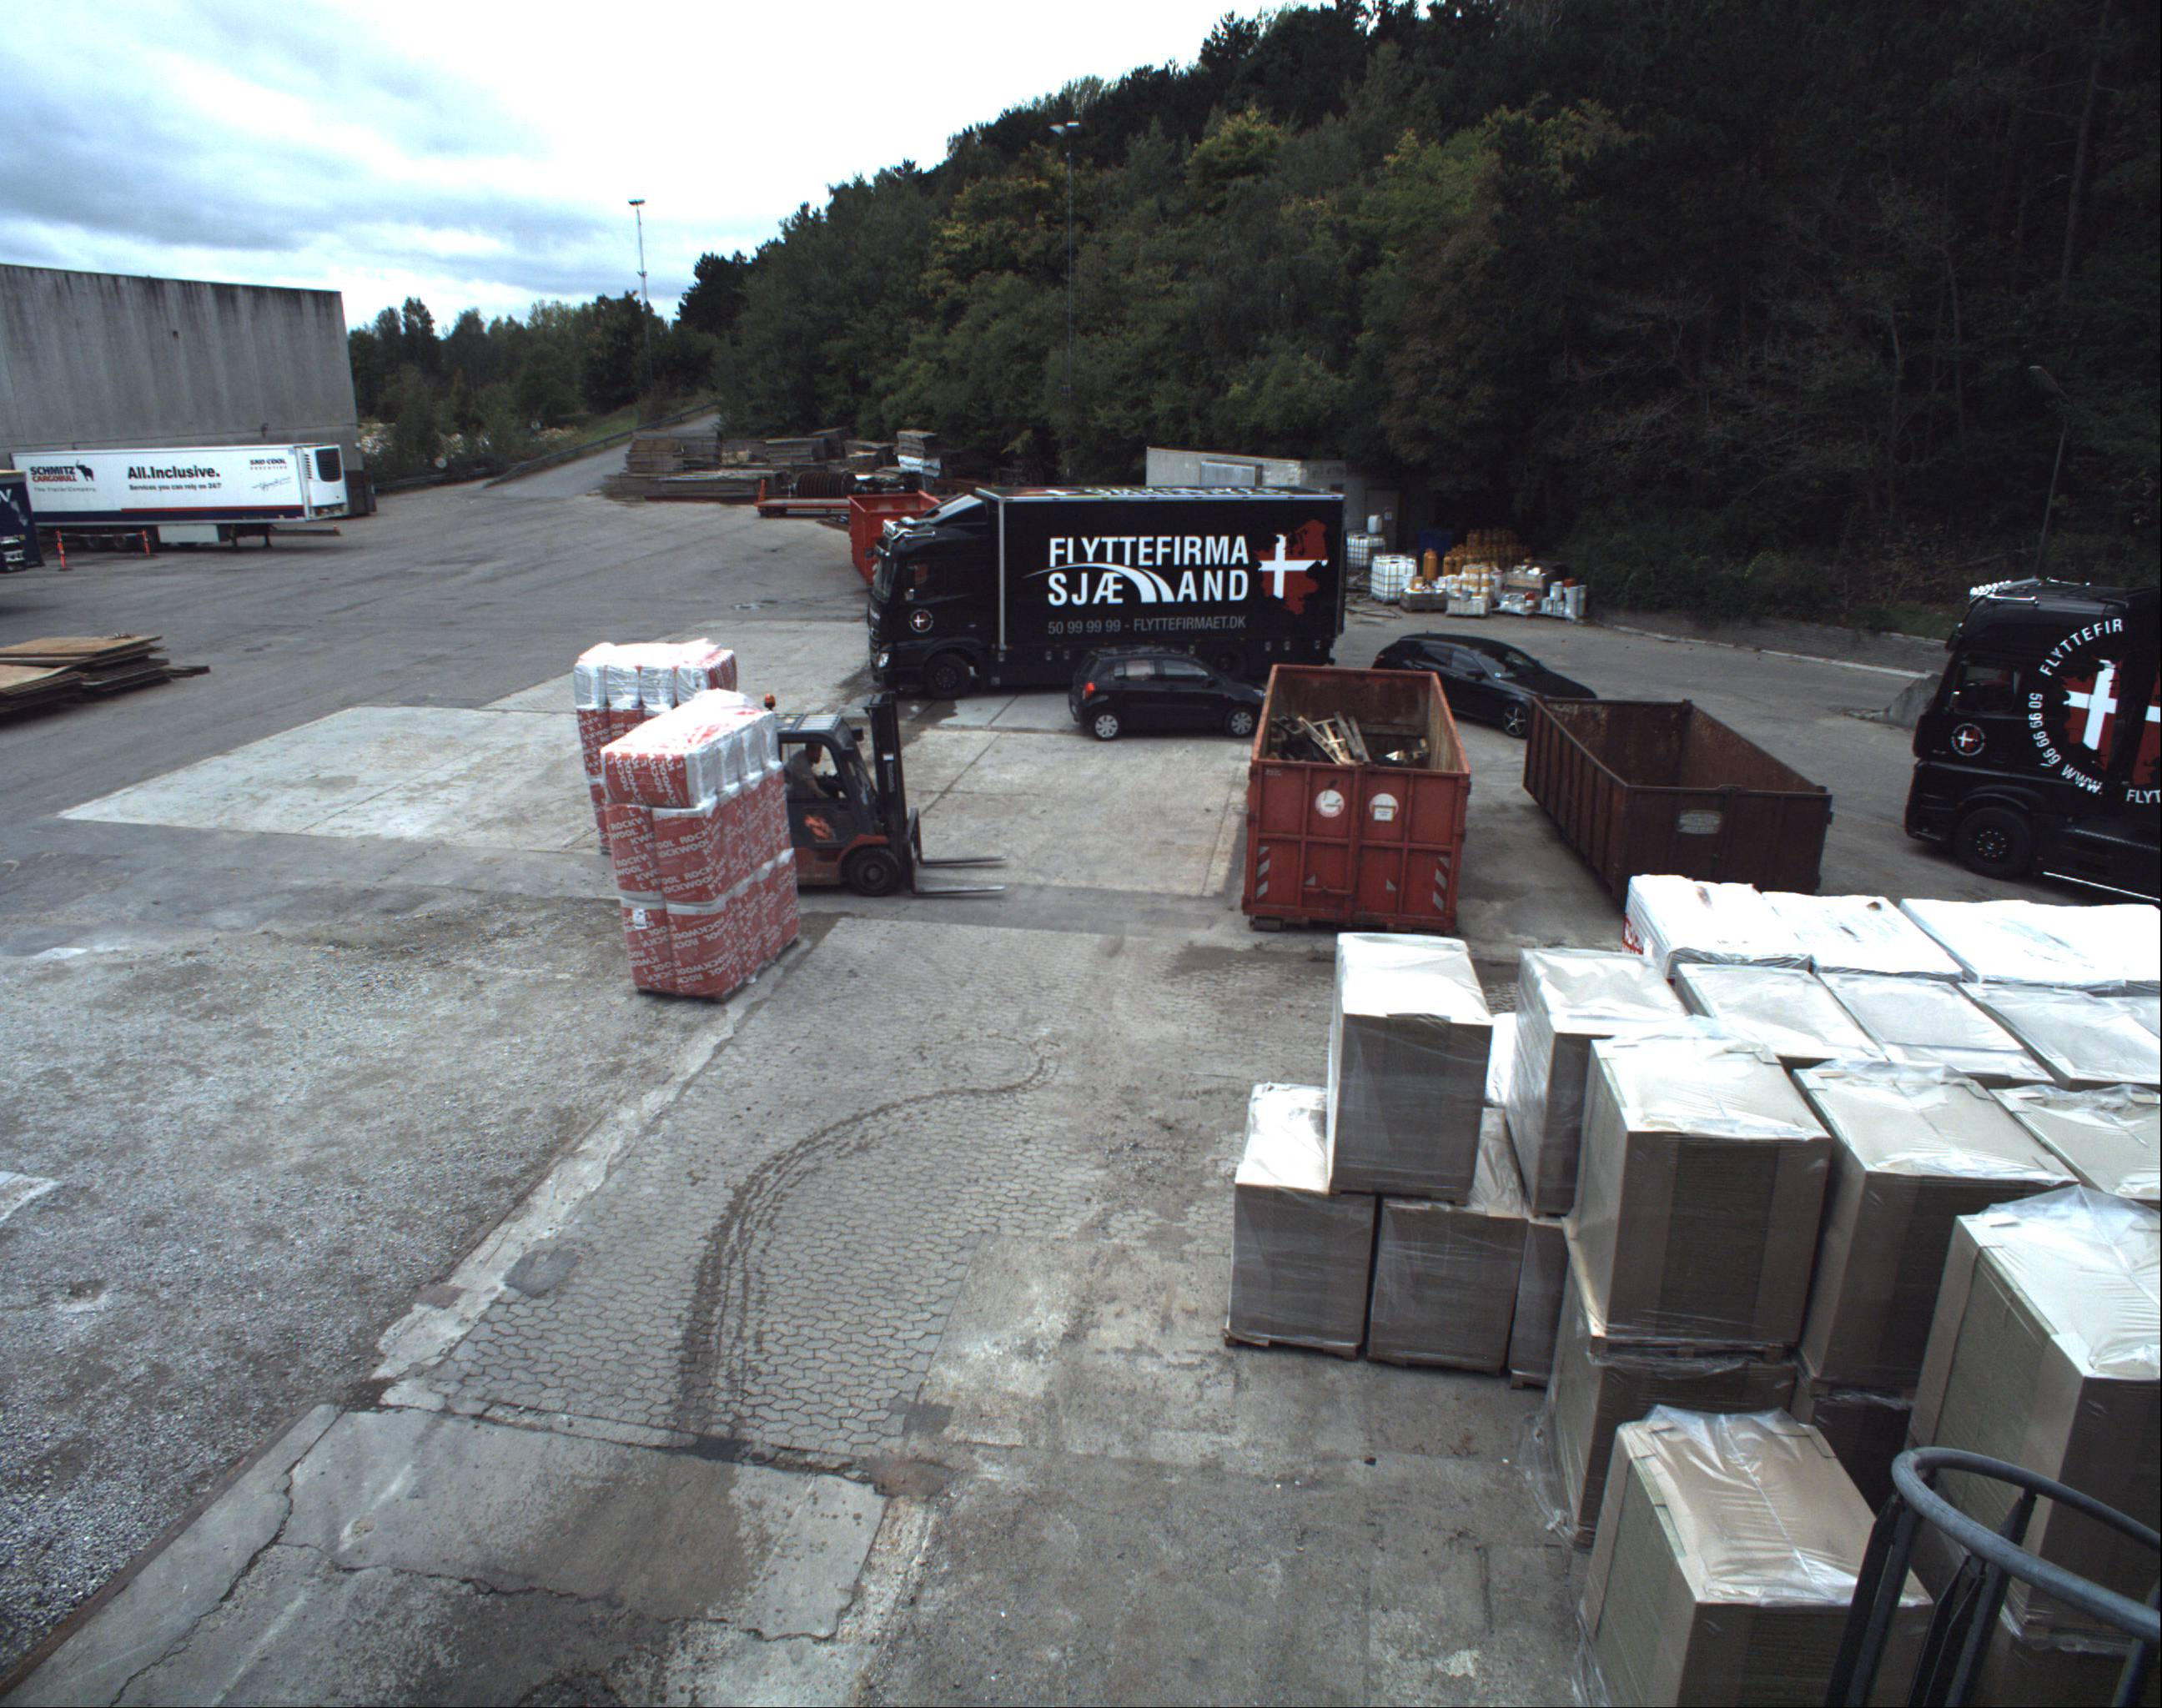rockwool_batts: (598, 688, 804, 997), (574, 634, 725, 778)
